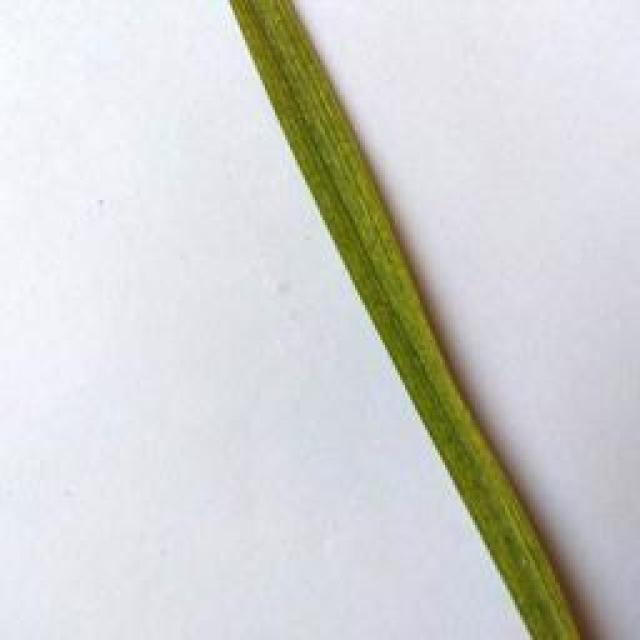Healthy-Plant: (229, 0, 583, 640)
